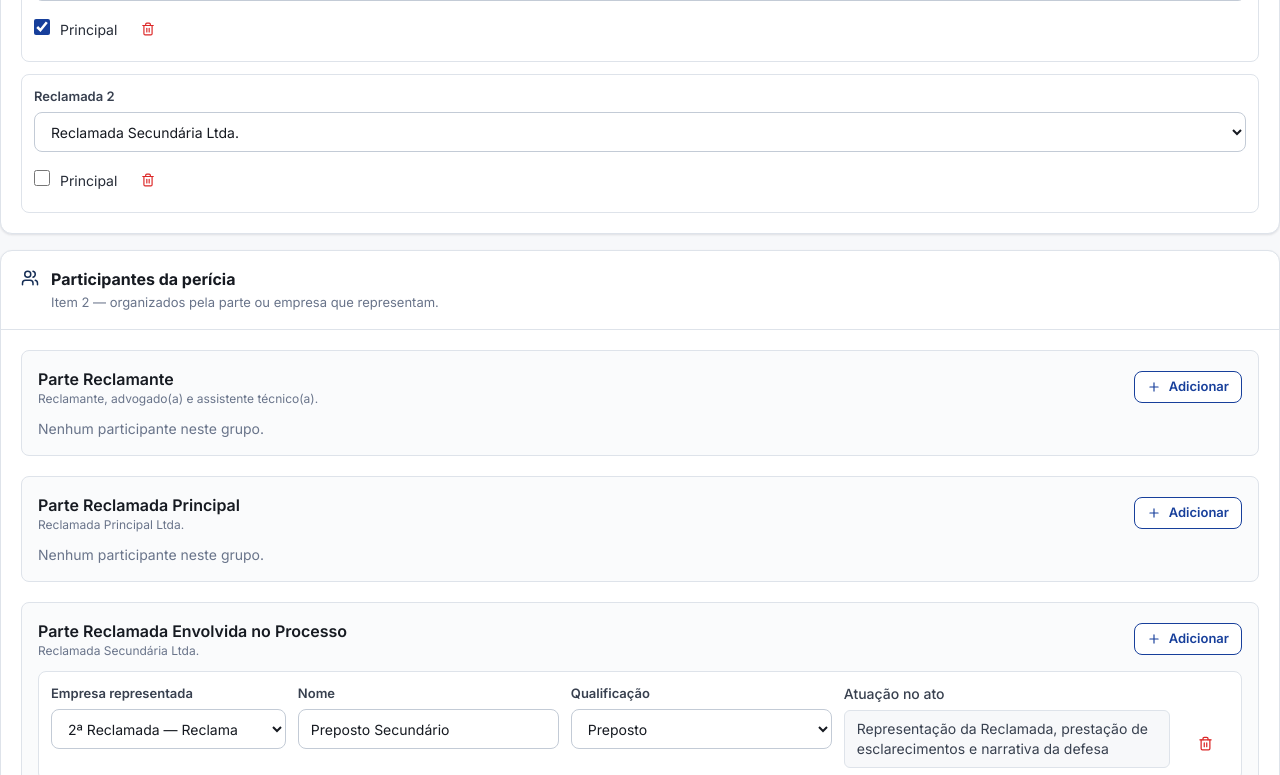
Test: PericiaEditor — feedback noturno de 28/08 › não exige nome quando a parte reclamante foi registrada como ausente
(page scrolled)
Click the button with aria-label "Adicionar participante em Parte Reclamante" at coordinates (1188, 386), box [1134,370,1242,402]
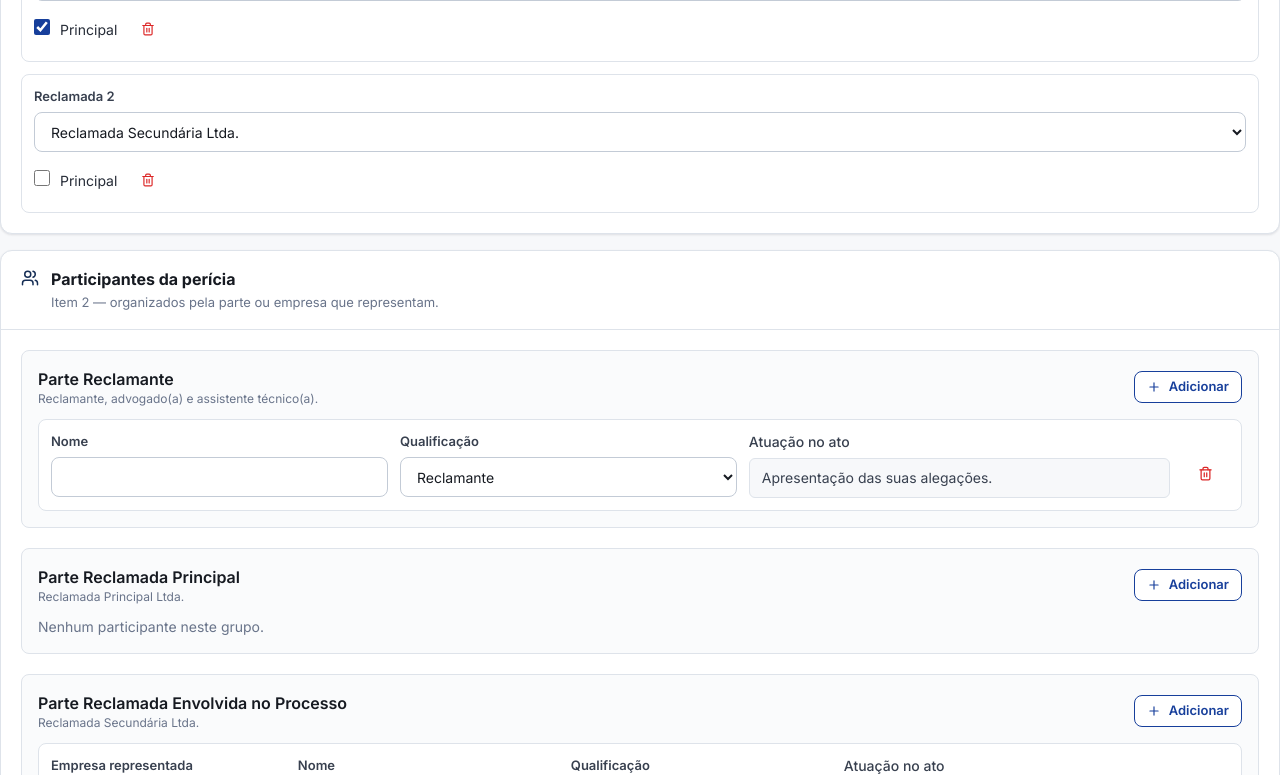
Select "Parte reclamante ausente" in the dropdown labelled "Qualificação" next to "Apresentação das suas alegações." at coordinates (568, 477), box [400,457,737,497]
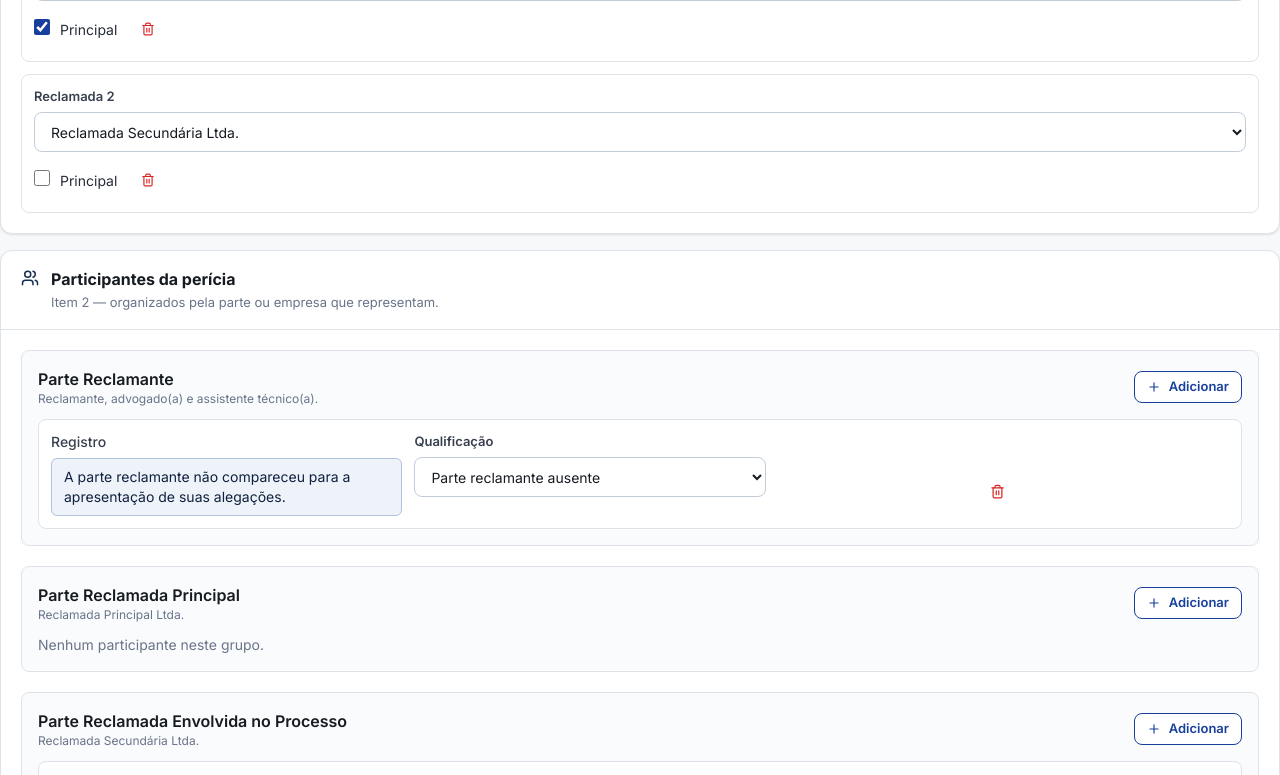
Expected: the text "A parte reclamante não compareceu para a apresentação de suas alegações." is shown, [51,458,402,516]
